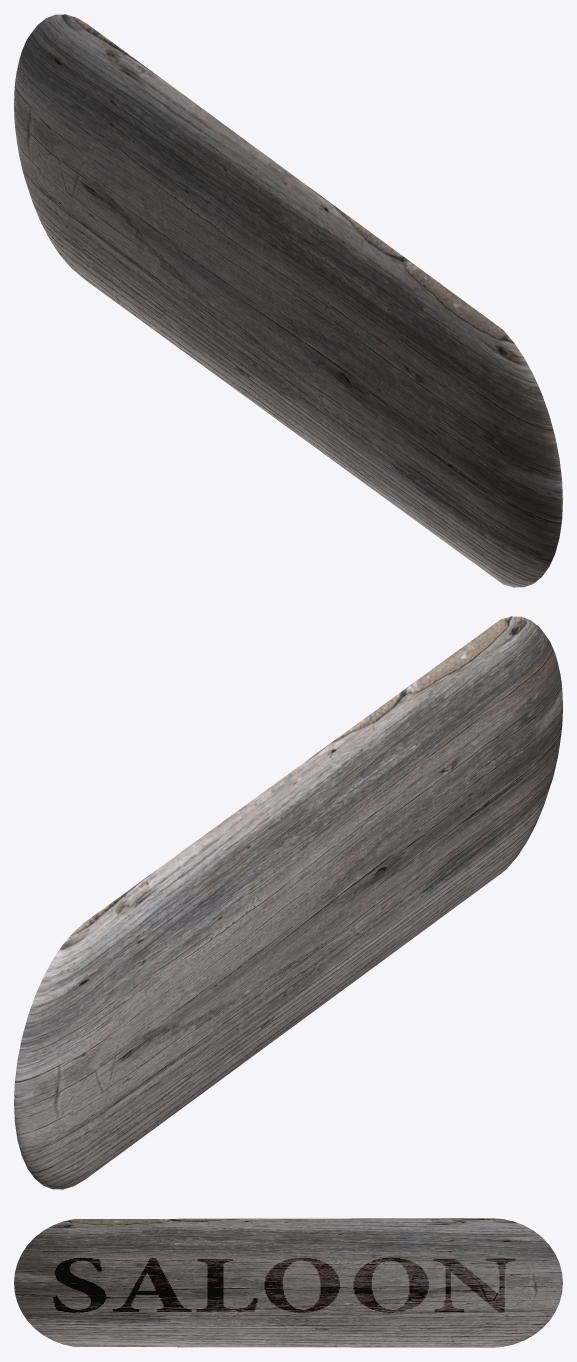
The model's file is SaloonSign.fbx.
3 renders of one model, top to bottom at view 1: azimuth 30°, elevation 25°; view 2: azimuth 150°, elevation 25°; view 3: azimuth 270°, elevation 25°, orthographic. The views are drawn at different scales.
Visible parts, largest first — view 1: pSphere1; view 2: pSphere1; view 3: pSphere1.
Boxes of the visible parts, box(x1,y1,x2,y2) form: pSphere1: box(14, 14, 562, 587); pSphere1: box(14, 616, 562, 1189); pSphere1: box(14, 1218, 562, 1347).
Bounding box in the file's own units: 1.64 × 20 × 76.82.
